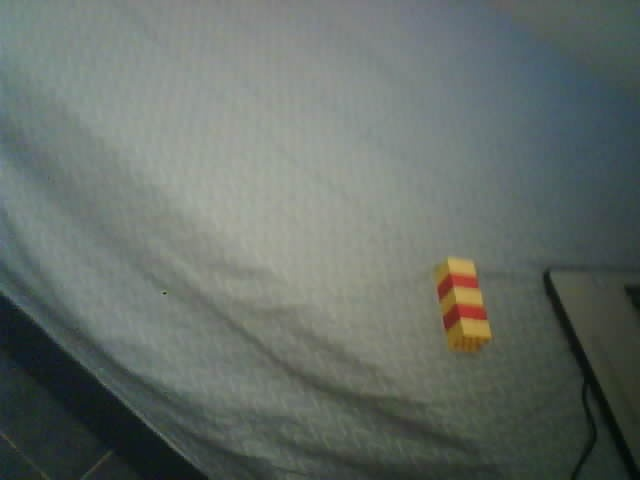lego: (432, 255, 493, 356)
